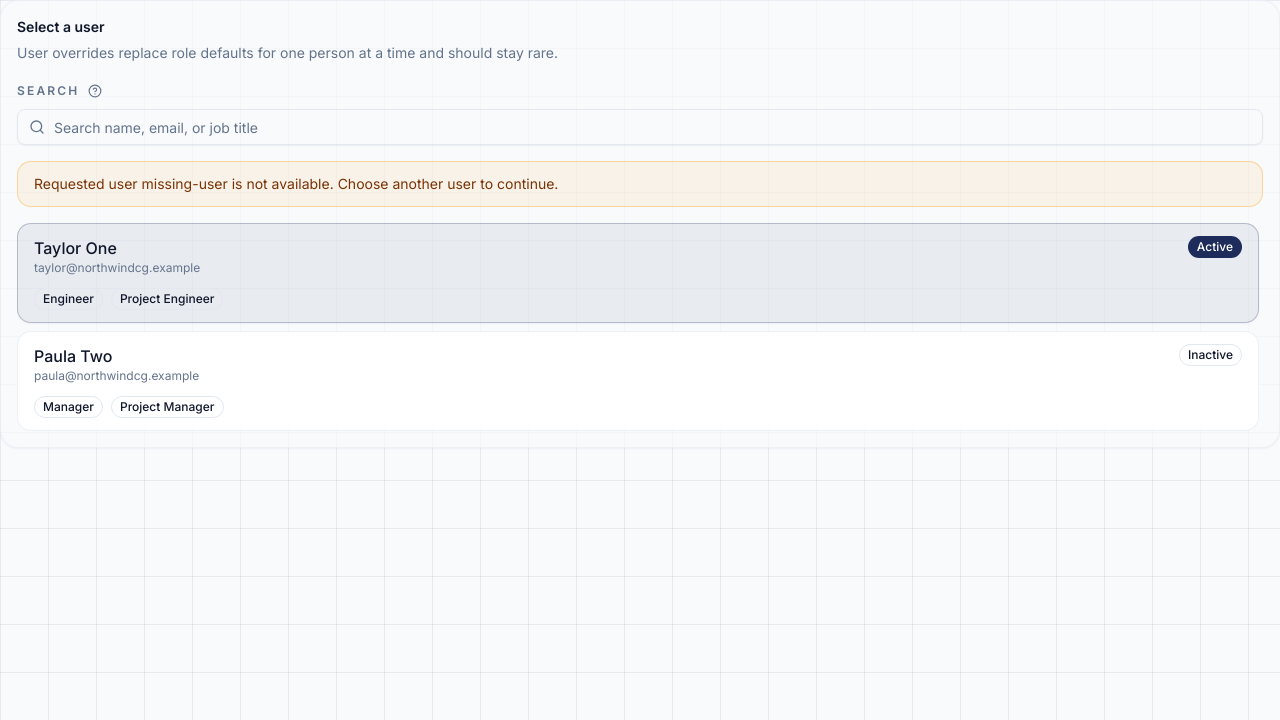
Scenario: UserOverridesSidebar › filters the user list and keeps the missing-user warning visible
Expected: the text with test id "user-overrides-missing-user" shows "missing-user", 34,175 -> 558,192
Type "paula" into the field named "search override users" at (640, 127), box 17,109 -> 1263,145
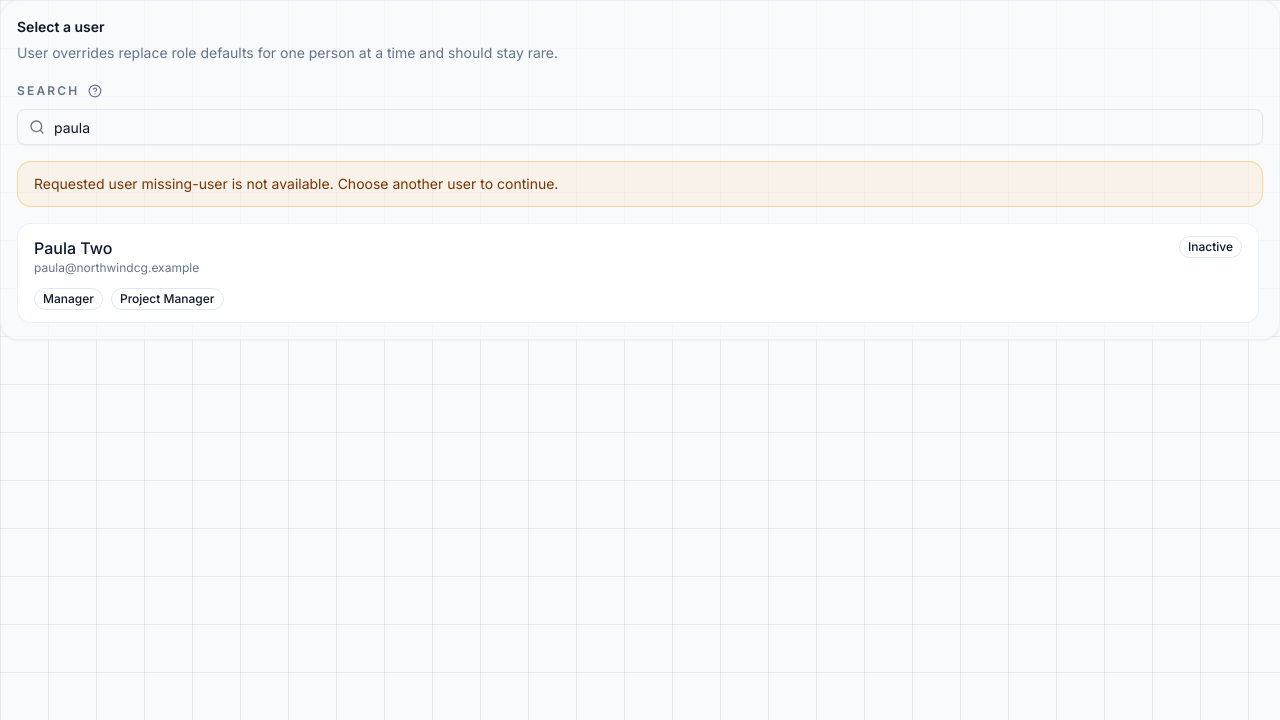
Expected: the button with test id "override-user-option-user-2" is shown, 17,223 -> 1259,323
Now the button with test id "override-user-option-user-1" is gone
